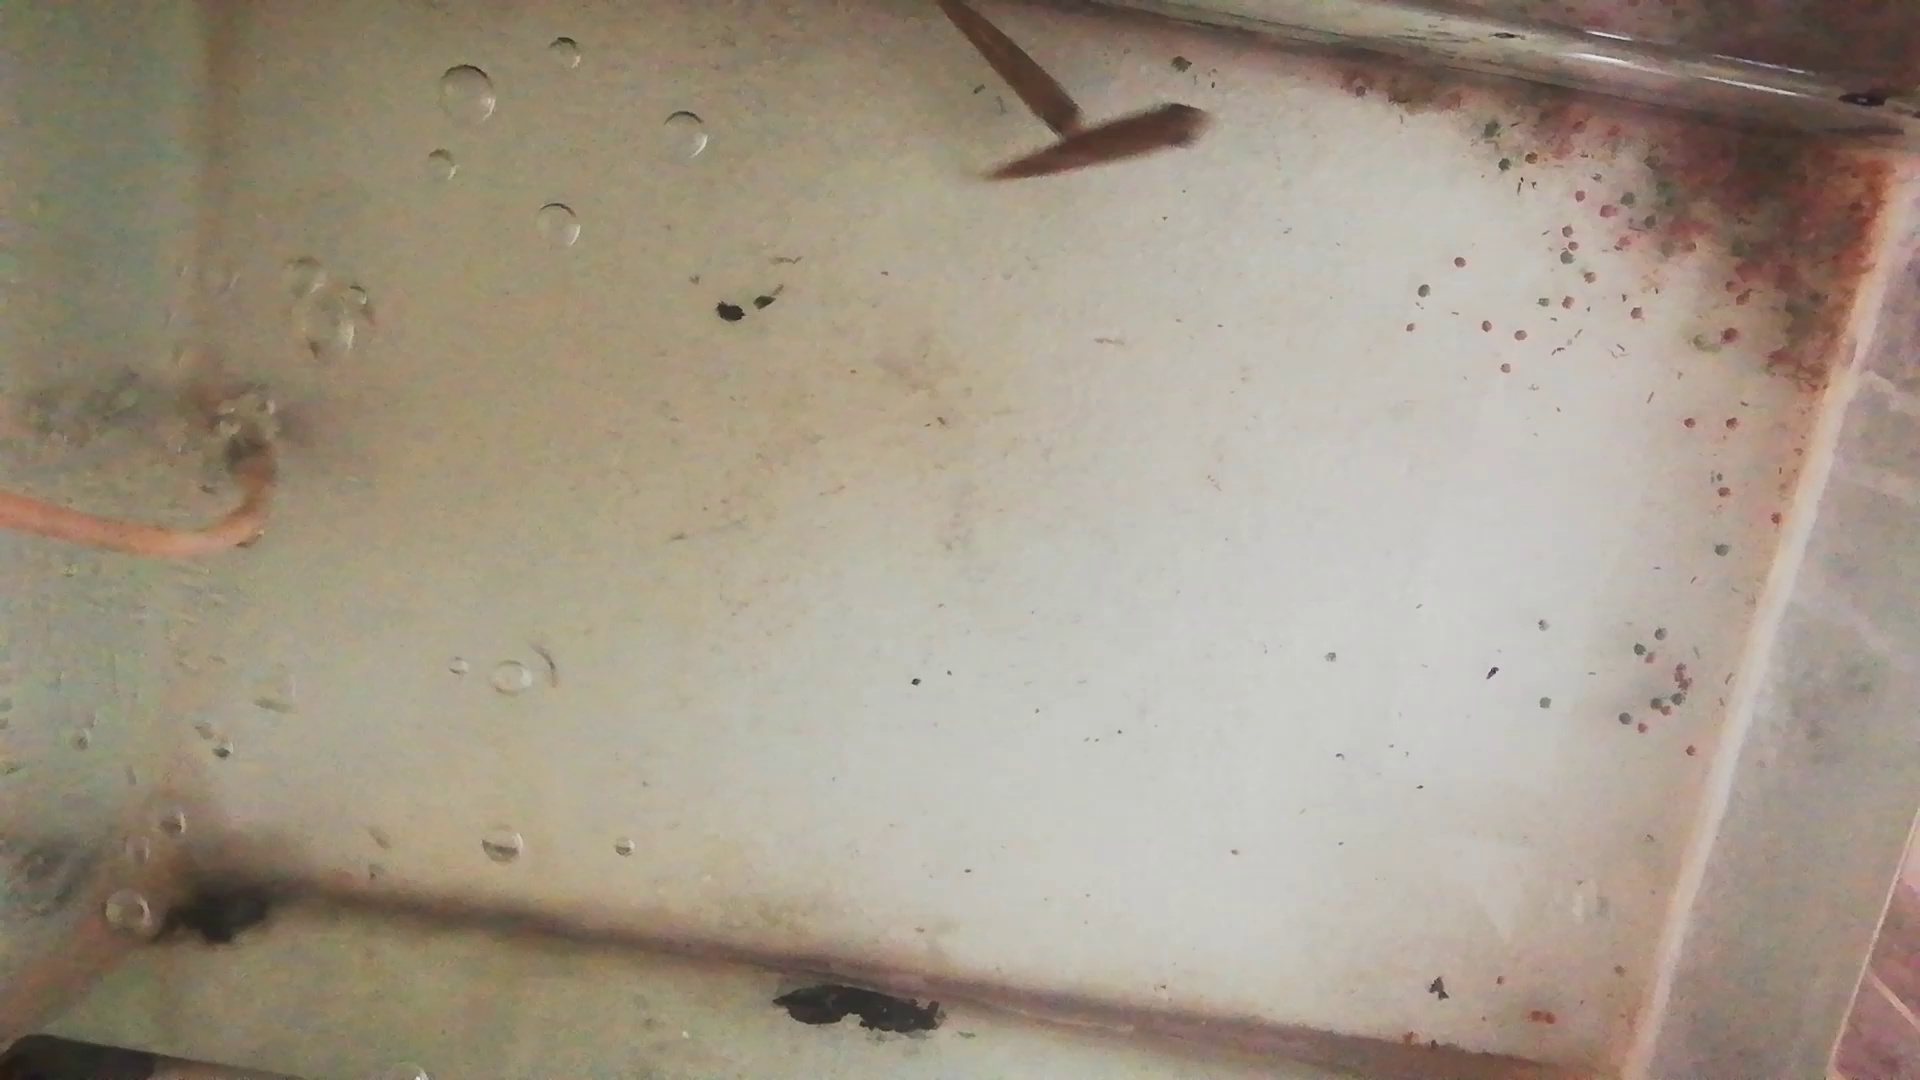fish: (938, 1, 1089, 141), (973, 105, 1224, 183)
